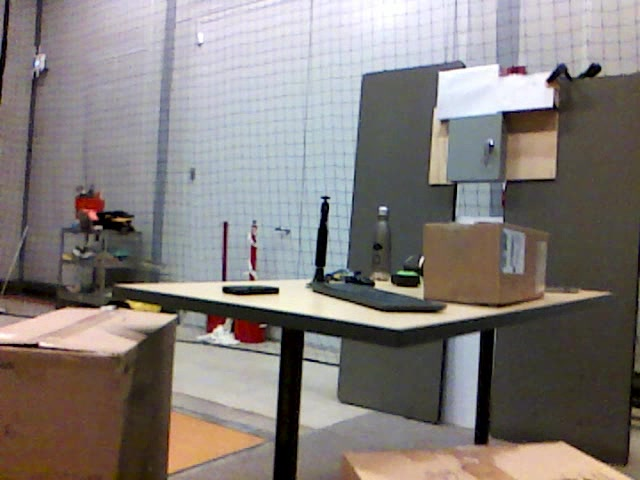box: (1, 307, 177, 480), (341, 440, 640, 479), (422, 221, 547, 304)
